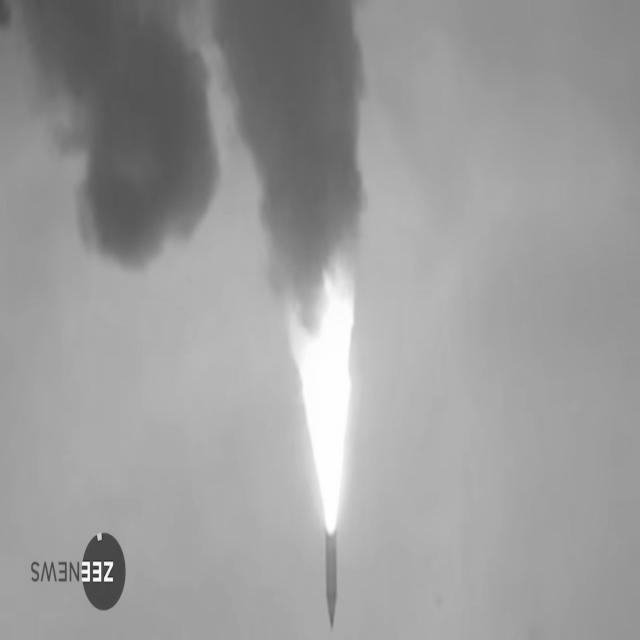missile: (320, 521, 340, 633)
